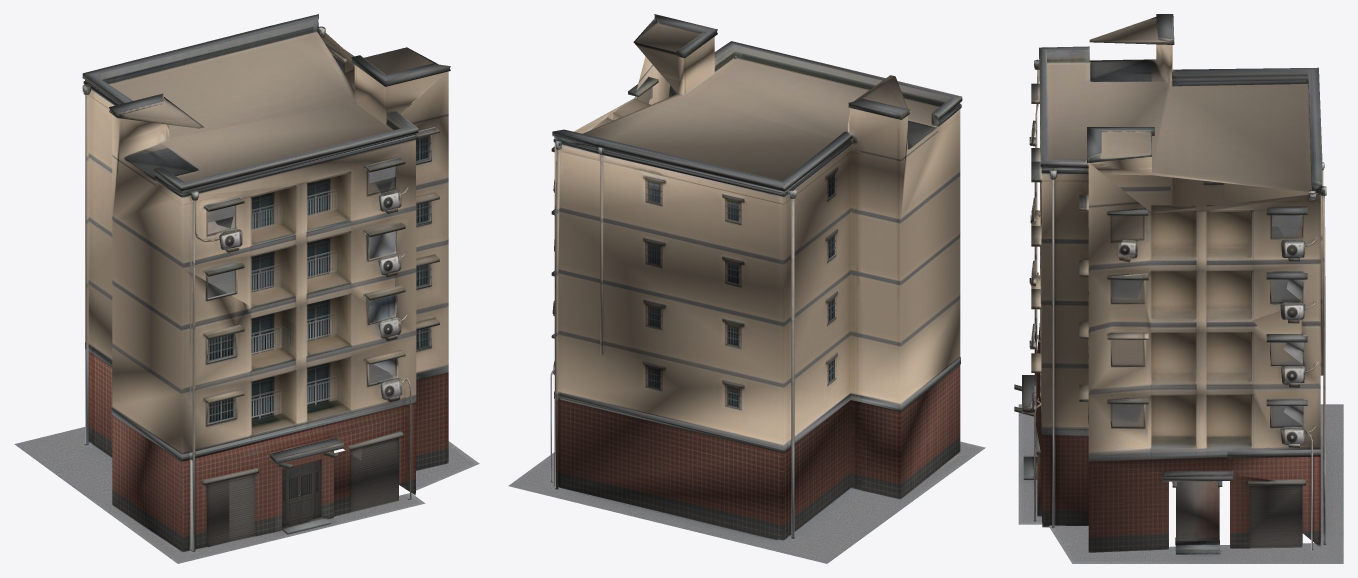
Rendered from facade-apartment-b.glb.
The picture shows the model from 3 angles, left to right: view 1: azimuth 30°, elevation 25°; view 2: azimuth 150°, elevation 25°; view 3: azimuth 270°, elevation 25°; orthographic projection. The views are drawn at different scales.
Visible parts, largest first — view 1: tripo_node_3293da04-4fad-47b6-9987-e5e0d494bd07; view 2: tripo_node_3293da04-4fad-47b6-9987-e5e0d494bd07; view 3: tripo_node_3293da04-4fad-47b6-9987-e5e0d494bd07.
Boxes of the visible parts, x1,y1,x2,y2 form: tripo_node_3293da04-4fad-47b6-9987-e5e0d494bd07: [14, 14, 479, 563]; tripo_node_3293da04-4fad-47b6-9987-e5e0d494bd07: [508, 14, 985, 563]; tripo_node_3293da04-4fad-47b6-9987-e5e0d494bd07: [1014, 14, 1343, 563].
Bounding box in the file's own units: 0.8613 × 0.998 × 0.752.
Materials: 1 (1 with a texture image).
